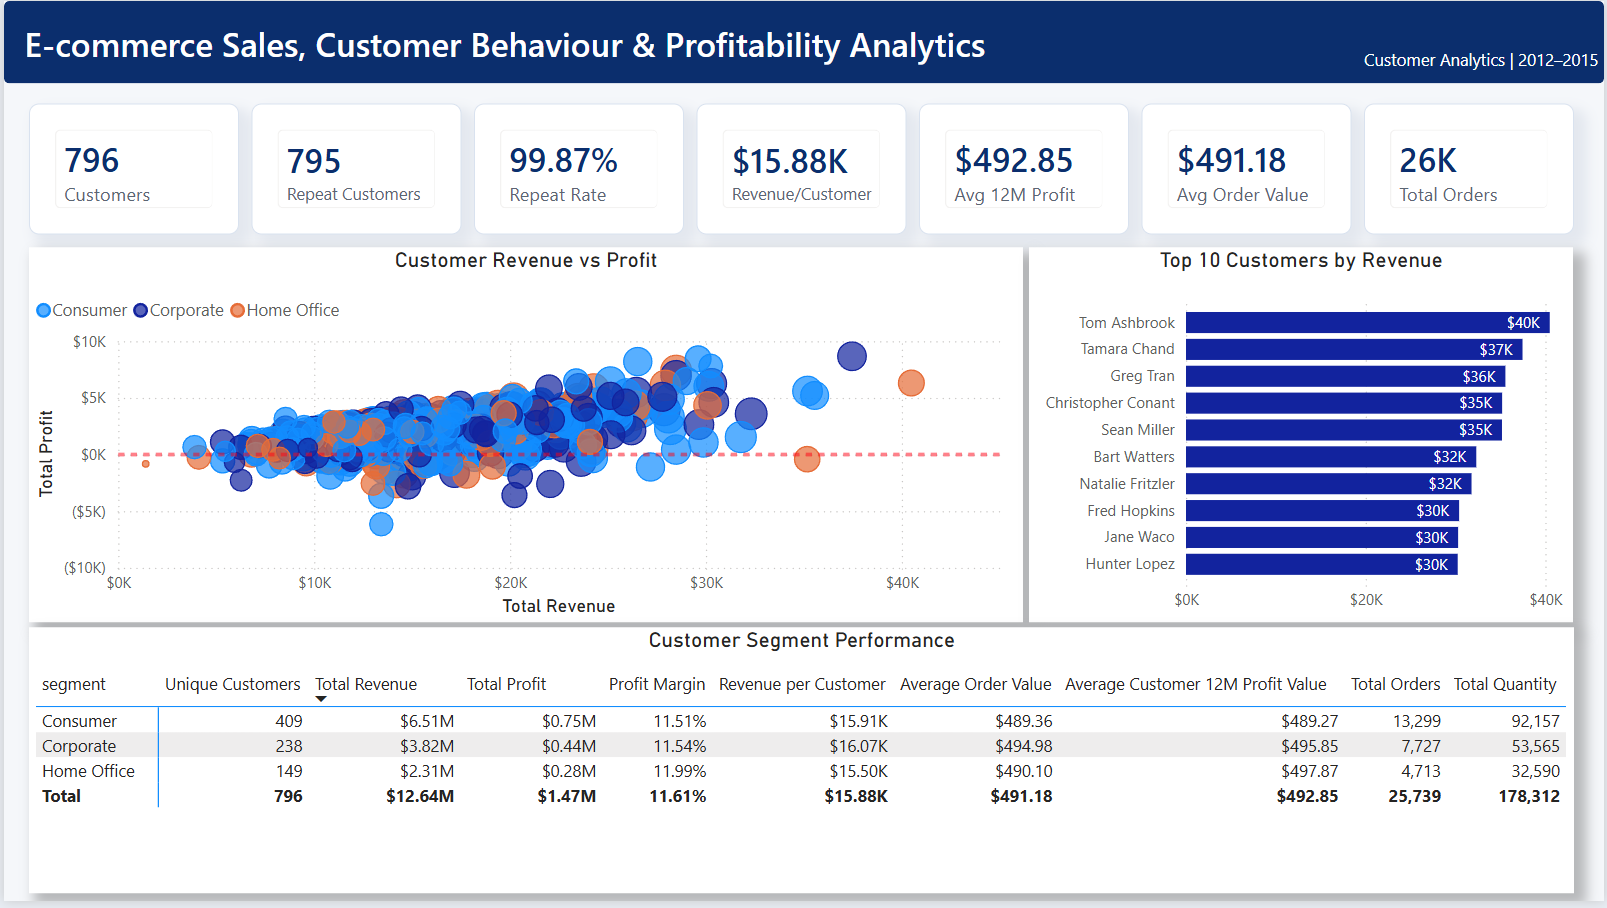

Layout of this report page (visuals, bound fields, positions):
{"tool":"powerbi","page":{"name":"03 Customer Analytics","canvas":[1280,720],"ordinal":3},"visuals":[{"type":"shape","box":[0,0,1279.7,65.6],"z":0},{"type":"textbox","box":[10.9,10.9,876.6,45.3],"z":1000},{"type":"textbox","box":[0,32.8,1280,150],"z":2000},{"type":"cardVisual","fields":{"Data":["_Measures.Unique Customers"]},"box":[19.8,82.1,168,105],"z":3000},{"type":"cardVisual","fields":{"Data":["_Measures.Repeat Customers"]},"box":[197.8,82.1,168,105],"z":4000},{"type":"cardVisual","fields":{"Data":["_Measures.Repeat Customer Rate"]},"box":[375.8,82.1,168,105],"z":5000},{"type":"cardVisual","fields":{"Data":["_Measures.Revenue per Customer"]},"box":[553.8,82.1,168,105],"z":6000},{"type":"cardVisual","fields":{"Data":["_Measures.Average Customer 12M Profit Value"]},"box":[731.8,82.1,168,105],"z":7000},{"type":"cardVisual","fields":{"Data":["_Measures.Average Order Value"]},"box":[909.8,82.1,168,105],"z":8000},{"type":"cardVisual","fields":{"Data":["_Measures.Total Orders"]},"box":[1087.8,82.1,168,105],"z":9000},{"type":"scatterChart","title":"Customer Revenue vs Profit","fields":{"X":["_Measures.Total Revenue"],"Y":["_Measures.Total Profit"],"Size":["_Measures.Total Orders"],"Series":["DimCustomer.segment"],"Category":["DimCustomer.customer_name"]},"box":[20,196.7,795,300],"z":10000},{"type":"clusteredBarChart","title":"Top 10 Customers by Revenue","fields":{"Category":["DimCustomer.customer_name"],"Y":["_Measures.Total Revenue"]},"box":[820,196.7,435,300],"z":11000},{"type":"pivotTable","title":"Customer Segment Performance","fields":{"Rows":["DimCustomer.segment"],"Values":["_Measures.Unique Customers","_Measures.Total Revenue","_Measures.Total Profit","_Measures.Profit Margin","_Measures.Revenue per Customer","_Measures.Average Order Value","_Measures.Average Customer 12M Profit Value","_Measures.Total Orders","_Measures.Total Quantity"]},"box":[20,501.1,1235.6,213.3],"z":12000}]}

Visuals, with their boxes in screenshot pixels (x1, y1, x2, y2), scaled from the page's 1280x720 canvas onto the 1607x908 screenshot:
shape: 0,0,1606,83
textbox: 14,14,1114,71
textbox: 0,41,1606,231
cardVisual - _Measures.Unique Customers: 25,104,236,236
cardVisual - _Measures.Repeat Customers: 248,104,459,236
cardVisual - _Measures.Repeat Customer Rate: 472,104,683,236
cardVisual - _Measures.Revenue per Customer: 695,104,906,236
cardVisual - _Measures.Average Customer 12M Profit Value: 919,104,1130,236
cardVisual - _Measures.Average Order Value: 1142,104,1353,236
cardVisual - _Measures.Total Orders: 1366,104,1577,236
"Customer Revenue vs Profit" scatterChart: 25,248,1023,626
"Top 10 Customers by Revenue" clusteredBarChart: 1029,248,1576,626
"Customer Segment Performance" pivotTable: 25,632,1576,901
